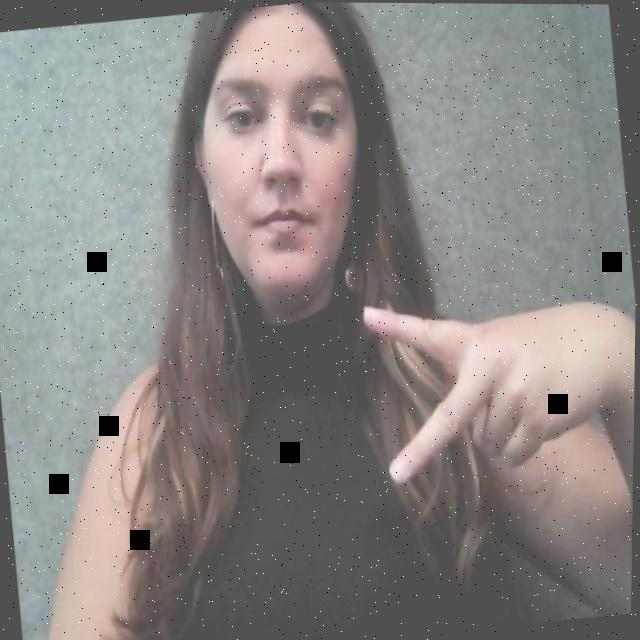Scissors: (332, 255, 637, 568)
